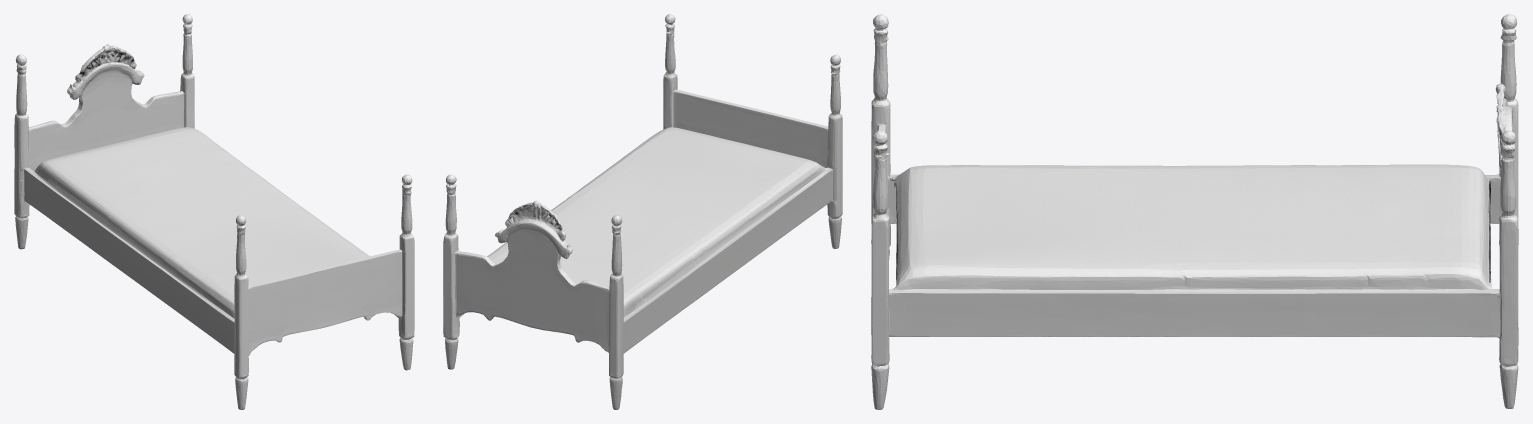
File: 7adc9d80-15d5-4918-87a4-3fa92f03f7ae.glb
The picture shows the model from 3 angles, left to right: view 1: azimuth 30°, elevation 25°; view 2: azimuth 150°, elevation 25°; view 3: azimuth 270°, elevation 25°; orthographic projection. The views are drawn at different scales.
Parts seen in each view (by area): view 1: world; view 2: world; view 3: world.
Boxes of the visible parts, x1,y1,x2,y2 form: world: [14, 14, 414, 409]; world: [443, 14, 842, 409]; world: [871, 14, 1518, 409].
Size of the model in its own units: 0.4513 by 0.4735 by 1.
Materials: 1 (1 with a texture image).
